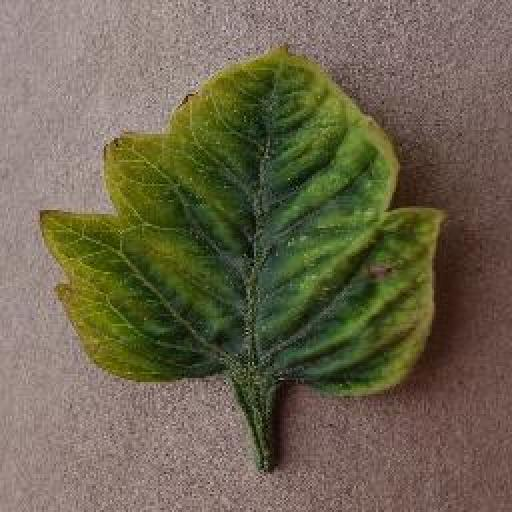disease_tomato: (35, 39, 447, 404)
